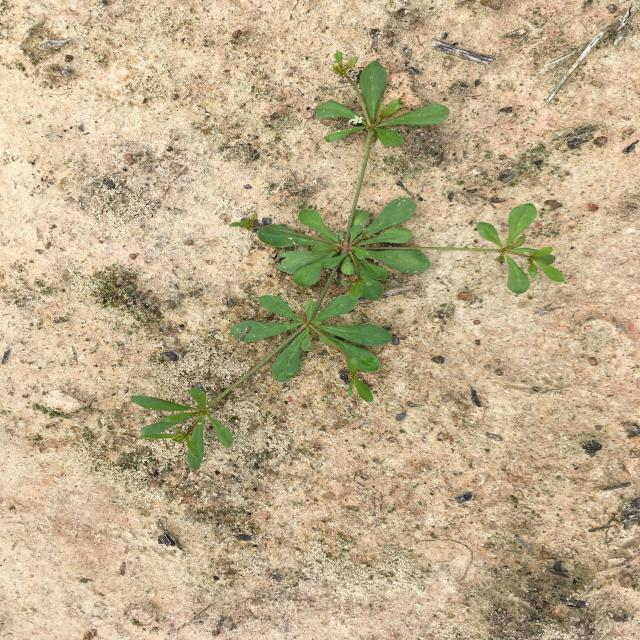Carpetweed: (130, 50, 565, 472)
